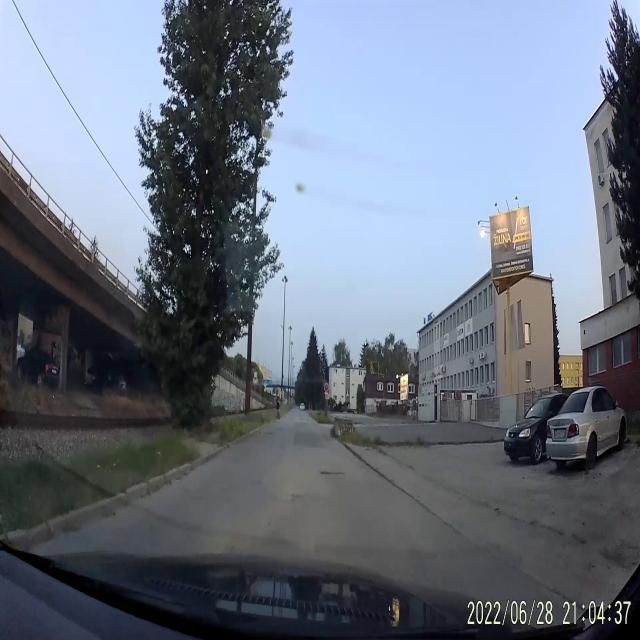Pothole: (316, 467, 346, 479)
